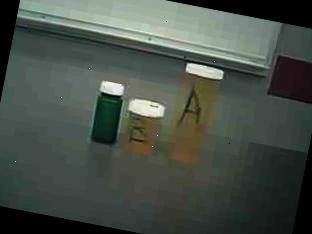Bottle A: (164, 55, 229, 170)
Bottle B: (117, 94, 169, 158)
Bottle C: (82, 75, 128, 150)
